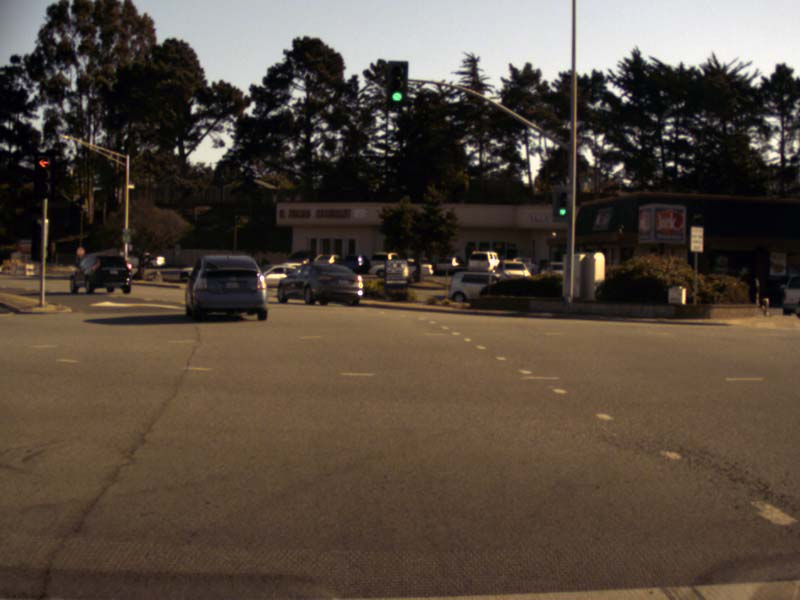Green: (386, 60, 407, 105), (552, 185, 571, 220)
Red: (34, 153, 54, 199)
